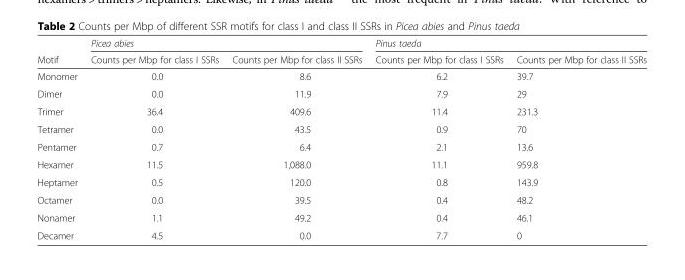table: (36, 37, 646, 240)
table column: (224, 37, 368, 240), (83, 37, 224, 240), (368, 37, 509, 240), (509, 37, 646, 240), (36, 37, 83, 240)
table column header: (36, 37, 646, 67)
table row: (36, 84, 646, 102), (36, 102, 646, 120), (36, 137, 646, 155), (36, 155, 646, 173), (36, 190, 646, 208), (36, 208, 646, 226), (36, 50, 646, 67), (36, 67, 646, 84), (36, 120, 646, 137), (36, 173, 646, 190), (36, 226, 646, 240), (36, 37, 646, 50)
table spanning cell: (83, 37, 368, 50), (368, 37, 646, 50), (36, 37, 83, 67)
